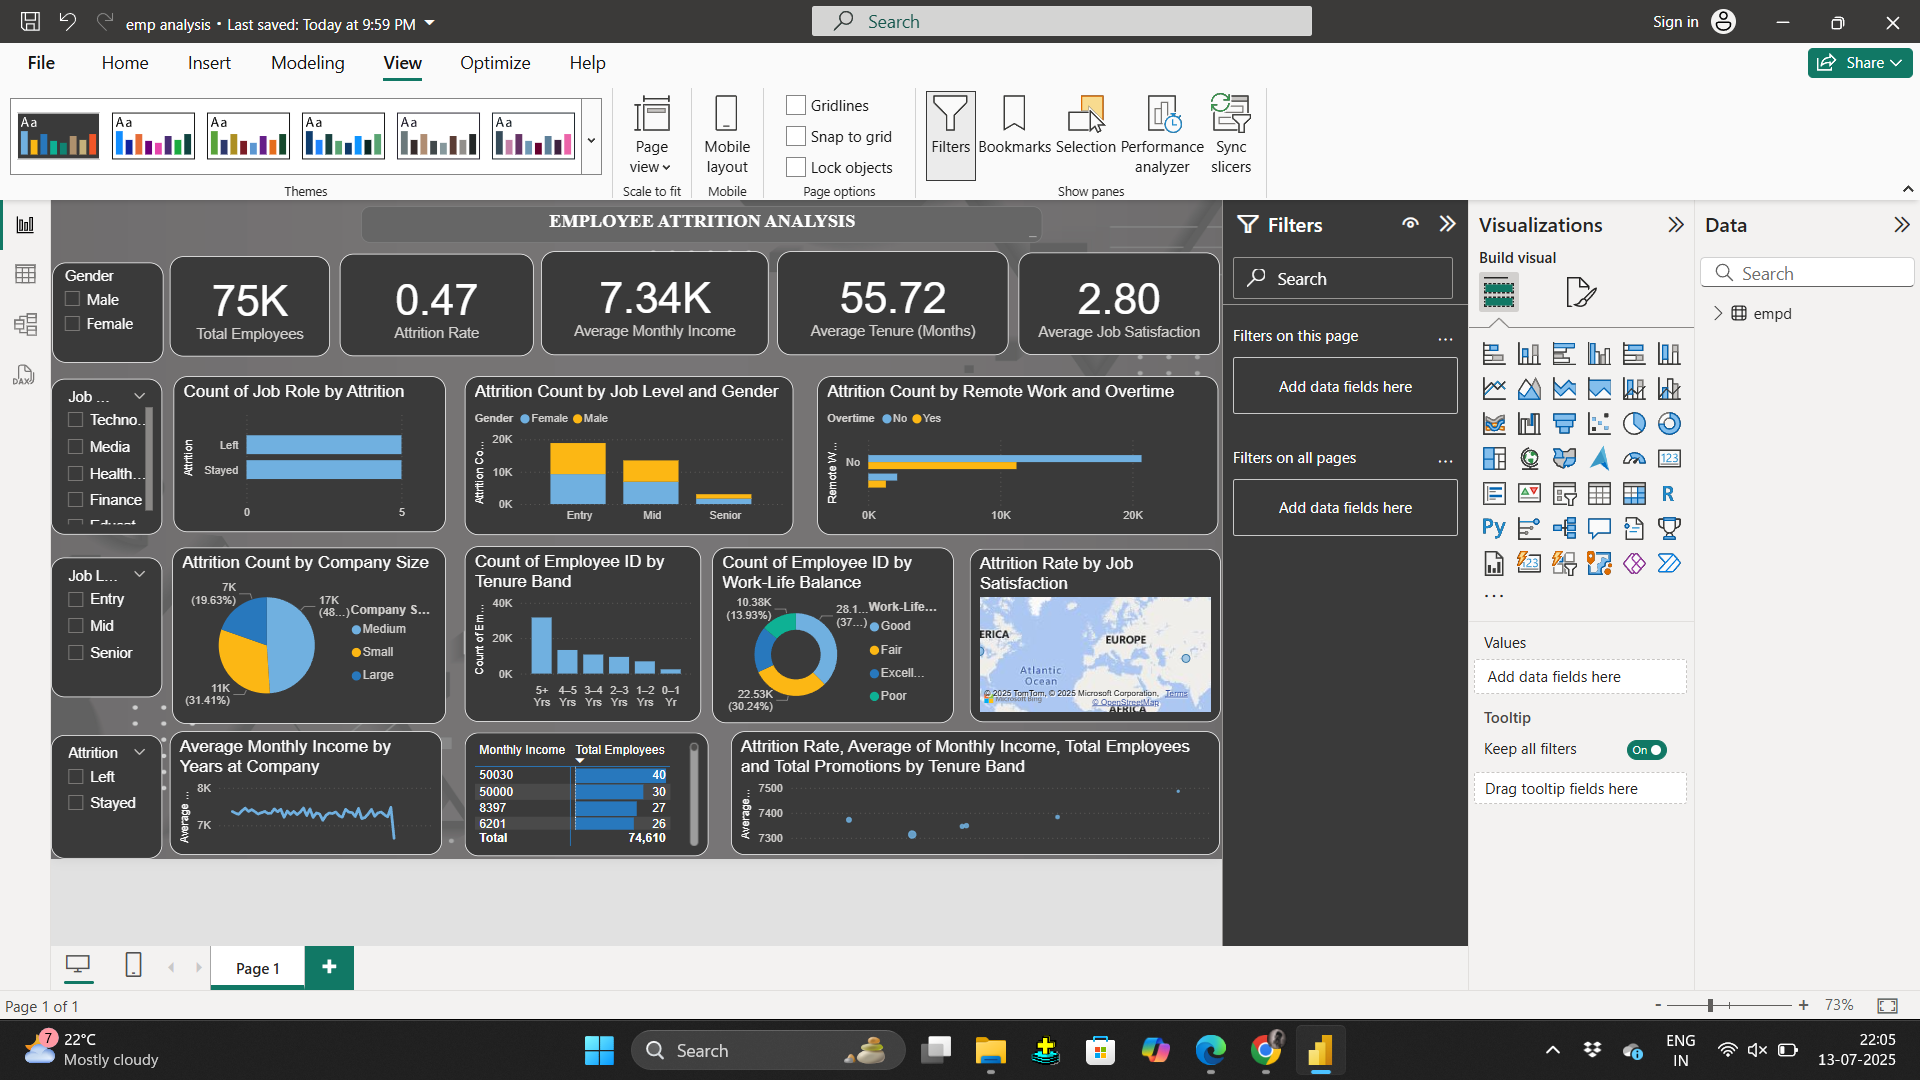

The dashboard page shown, as its layout file describes it:
{"tool":"powerbi","page":{"name":"Page 1","canvas":[1280,720],"ordinal":0},"visuals":[{"type":"textbox","title":"EMPLOYEE ATTRITION ANALYSIS","box":[338.9,6.8,744.7,39.6],"z":0},{"type":"slicer","fields":{"Values":["empd.Gender"]},"box":[1.4,68.3,121.6,109.3],"z":1000},{"type":"slicer","fields":{"Values":["empd.Job Role"]},"box":[0,195.4,121.6,170.8],"z":2000},{"type":"slicer","fields":{"Values":["empd.Job Level"]},"box":[0,390.8,121.6,153],"z":3000},{"type":"slicer","fields":{"Values":["empd.Attrition"]},"box":[0,584.8,121.6,135.3],"z":4000},{"type":"card","fields":{"Values":["empd.Total Employees"]},"box":[129.8,61.5,174.9,109.3],"z":5000},{"type":"card","fields":{"Values":["empd.Attrition Rate"]},"box":[315.6,58.8,211.8,112],"z":6000},{"type":"card","fields":{"Values":["empd.Average Monthly Income"]},"box":[535.6,56,248.7,113.4],"z":7000},{"type":"card","fields":{"Values":["Avg(empd.Company Tenure (In Months))"]},"box":[793.9,56,252.8,113.4],"z":8000},{"type":"card","fields":{"Values":["empd.Average Job Satisfaction"]},"box":[1057.6,57.4,220,112],"z":9000},{"type":"clusteredBarChart","fields":{"Category":["empd.Attrition"],"Y":["Count(empd.Job Role)"]},"box":[133.9,192.7,297.9,170.8],"z":10000},{"type":"columnChart","fields":{"Category":["empd.Job Level"],"Series":["empd.Gender"],"Y":["empd.Attrition Count"]},"box":[452.3,192.7,359.4,173.5],"z":11000},{"type":"clusteredBarChart","fields":{"Series":["empd.Overtime"],"Category":["empd.Remote Work"],"Y":["empd.Attrition Count"]},"box":[837.6,192.7,438.6,173.5],"z":12000},{"type":"lineChart","fields":{"Category":["empd.Years at Company"],"Y":["empd.Average Monthly Income"]},"box":[129.8,580.7,297.9,135.3],"z":13000},{"type":"pieChart","fields":{"Category":["empd.Company Size"],"Y":["empd.Attrition Count"]},"box":[132.5,379.8,299.2,192.7],"z":14000},{"type":"pivotTable","fields":{"Rows":["empd.Monthly Income"],"Values":["empd.Total Employees"]},"box":[452.3,582.1,266.4,135.3],"z":15000},{"type":"donutChart","fields":{"Category":["empd.Work-Life Balance"],"Y":["Count(empd.Employee ID)"]},"box":[723.5,379.8,264.3,192],"z":16000},{"type":"clusteredColumnChart","fields":{"Category":["empd.Tenure Band"],"Y":["CountNonNull(empd.Employee ID)"]},"box":[452.2,378.4,258.8,192],"z":17000},{"type":"map","fields":{"Category":["empd.Job Satisfaction"],"Size":["empd.Attrition Rate"]},"box":[1004.3,381.2,274.6,189.9],"z":18000},{"type":"scatterChart","fields":{"Category":["empd.Tenure Band"],"X":["empd.Attrition Rate"],"Y":["Avg(empd.Monthly Income)"],"Size":["empd.Total Employees"]},"box":[743.3,580.7,534.2,135.3],"z":19000}]}

Visuals, with their boxes on the page's 1280x720 design canvas (x1, y1, x2, y2). These are canvas units, not pixel positions in the 1920x1080 screenshot, which may show the page scaled, cropped or inside an application window:
"EMPLOYEE ATTRITION ANALYSIS" textbox: (x1=339, y1=7, x2=1084, y2=46)
slicer - empd.Gender: (x1=1, y1=68, x2=123, y2=178)
slicer - empd.Job Role: (x1=0, y1=195, x2=122, y2=366)
slicer - empd.Job Level: (x1=0, y1=391, x2=122, y2=544)
slicer - empd.Attrition: (x1=0, y1=585, x2=122, y2=720)
card - empd.Total Employees: (x1=130, y1=62, x2=305, y2=171)
card - empd.Attrition Rate: (x1=316, y1=59, x2=527, y2=171)
card - empd.Average Monthly Income: (x1=536, y1=56, x2=784, y2=169)
card - Avg(empd.Company Tenure (In Months)): (x1=794, y1=56, x2=1047, y2=169)
card - empd.Average Job Satisfaction: (x1=1058, y1=57, x2=1278, y2=169)
clusteredBarChart - empd.Attrition x Count(empd.Job Role): (x1=134, y1=193, x2=432, y2=364)
columnChart - empd.Job Level x empd.Gender: (x1=452, y1=193, x2=812, y2=366)
clusteredBarChart - empd.Overtime x empd.Remote Work: (x1=838, y1=193, x2=1276, y2=366)
lineChart - empd.Years at Company x empd.Average Monthly Income: (x1=130, y1=581, x2=428, y2=716)
pieChart - empd.Company Size x empd.Attrition Count: (x1=132, y1=380, x2=432, y2=572)
pivotTable - empd.Monthly Income x empd.Total Employees: (x1=452, y1=582, x2=719, y2=717)
donutChart - empd.Work-Life Balance x Count(empd.Employee ID): (x1=724, y1=380, x2=988, y2=572)
clusteredColumnChart - empd.Tenure Band x CountNonNull(empd.Employee ID): (x1=452, y1=378, x2=711, y2=570)
map - empd.Job Satisfaction x empd.Attrition Rate: (x1=1004, y1=381, x2=1279, y2=571)
scatterChart - empd.Tenure Band x empd.Attrition Rate: (x1=743, y1=581, x2=1278, y2=716)
